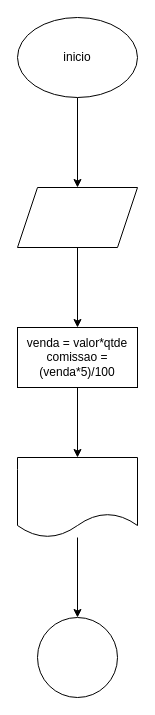
Image size: 155x715. Some labels were removed from this diagram. The shapes that lost their labels are listed below. From the top down, each one's box as (x1, y1, x2, y2) in pixels, then its label:
(16, 186, 138, 248): valor, qtde
(16, 456, 138, 538): comissao
